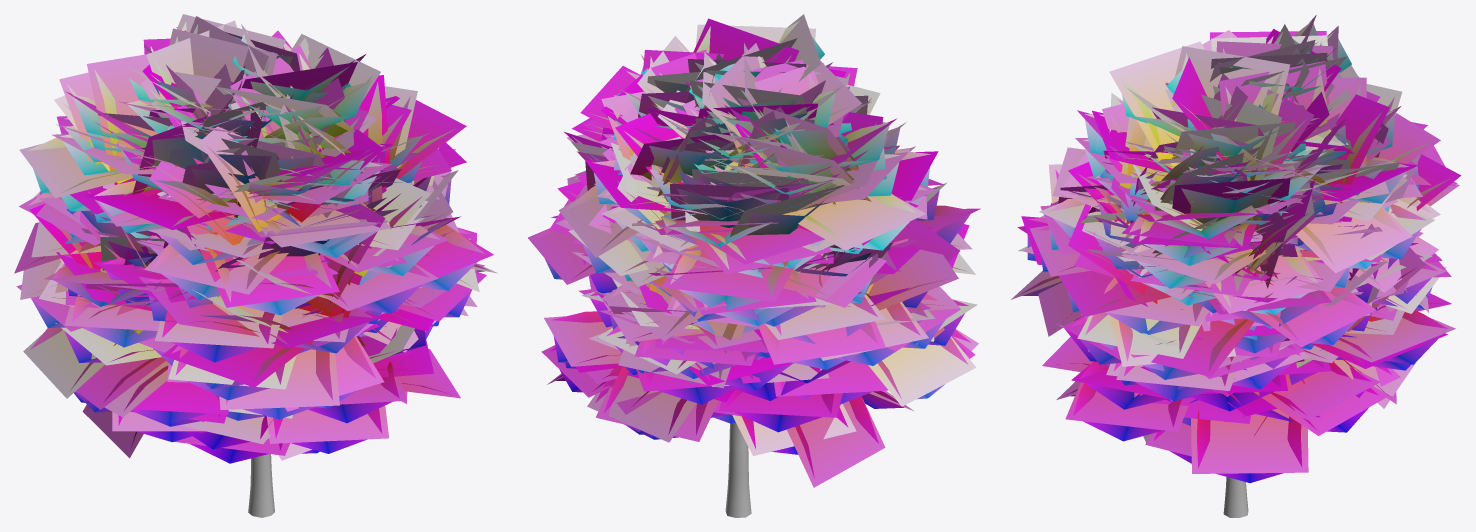
File: oak_03_2.fbx
3 renders of one model, left to right at view 1: azimuth 30°, elevation 25°; view 2: azimuth 150°, elevation 25°; view 3: azimuth 270°, elevation 25°, orthographic. The views are drawn at different scales.
Visible parts, largest first — view 1: oak_leaves_03_2_shadow, oak_leaves_03_2_lod_0, oak_tree_03_2_lod_0; view 2: oak_leaves_03_2_shadow, oak_leaves_03_2_lod_0, oak_tree_03_2_lod_0; view 3: oak_leaves_03_2_shadow, oak_leaves_03_2_lod_0, oak_tree_03_2_lod_0.
Part boxes in pixels (box(x1,y1,x2,y2)): oak_leaves_03_2_shadow: box(14, 14, 497, 460); oak_leaves_03_2_lod_0: box(23, 21, 489, 463); oak_tree_03_2_lod_0: box(248, 454, 274, 517); oak_leaves_03_2_shadow: box(528, 14, 980, 487); oak_leaves_03_2_lod_0: box(535, 21, 972, 478); oak_tree_03_2_lod_0: box(725, 423, 751, 517); oak_leaves_03_2_shadow: box(1011, 15, 1461, 473); oak_leaves_03_2_lod_0: box(1020, 21, 1451, 482); oak_tree_03_2_lod_0: box(1223, 477, 1248, 517).
Size of what is drawn, in the model's own units: 14.2 by 14.98 by 13.55.
